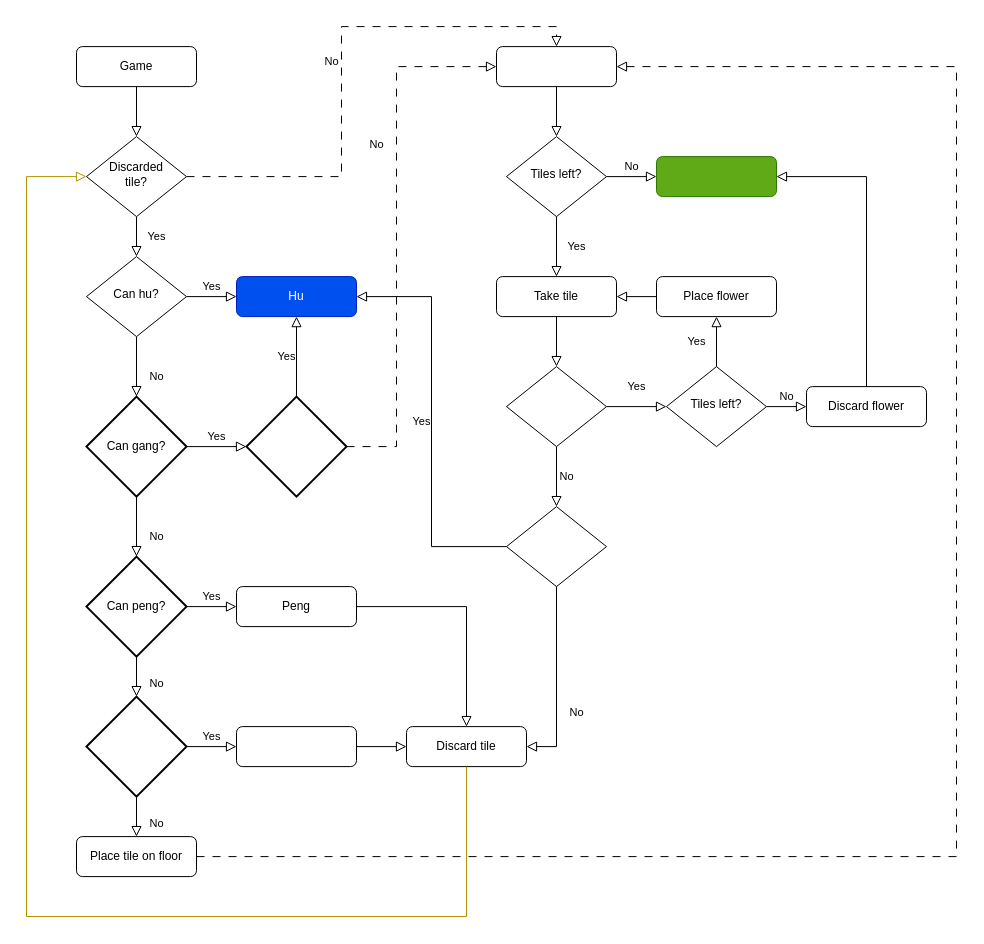
Some shapes in this 984 by 944 pixel diagram are drawn without their labels. The centre of each missing label's shape, as x and y in pixels:
Can chi?: the point at 136,746
Can qianggang?: the point at 296,446
Can zimo?: the point at 556,546
Chi: the point at 296,746
Draw: the point at 716,176
Flower?: the point at 556,406
New tile: the point at 556,66
